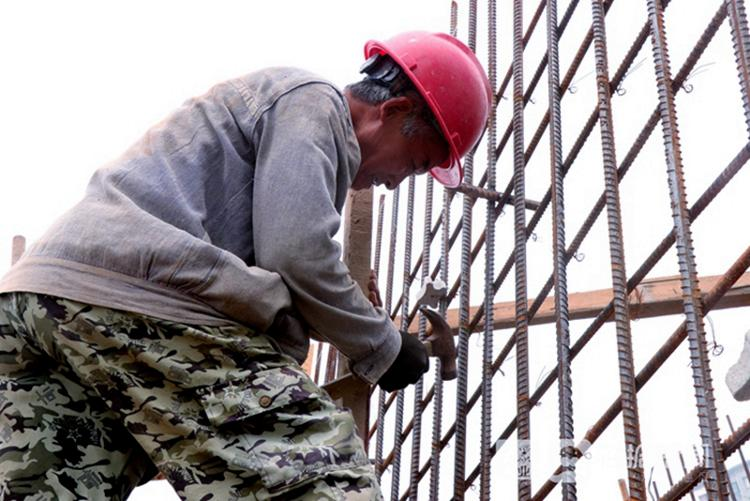safetyhat: (10, 17, 579, 501)
